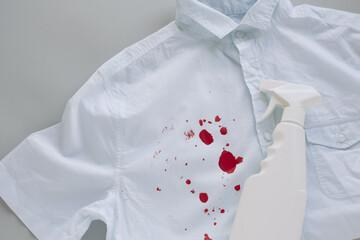gun: (216, 145, 241, 174), (196, 128, 213, 146), (197, 117, 213, 125), (181, 129, 195, 138), (162, 124, 175, 131), (199, 193, 208, 202), (200, 232, 211, 239), (150, 148, 161, 154), (232, 183, 241, 190), (185, 175, 191, 184), (218, 128, 227, 133), (212, 115, 218, 121), (213, 216, 217, 225), (182, 225, 188, 231), (153, 187, 163, 190), (231, 115, 235, 122), (219, 207, 224, 212), (203, 207, 207, 213), (200, 156, 205, 160), (183, 161, 187, 165), (184, 118, 188, 121)
